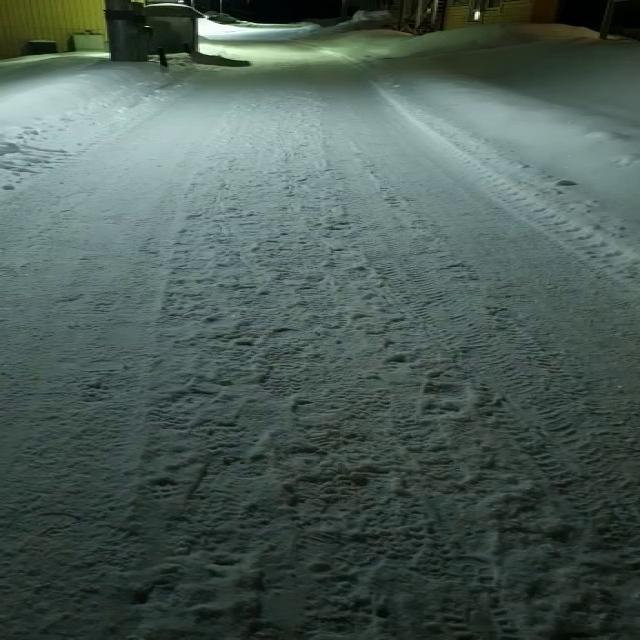path: (0, 23, 639, 640)
